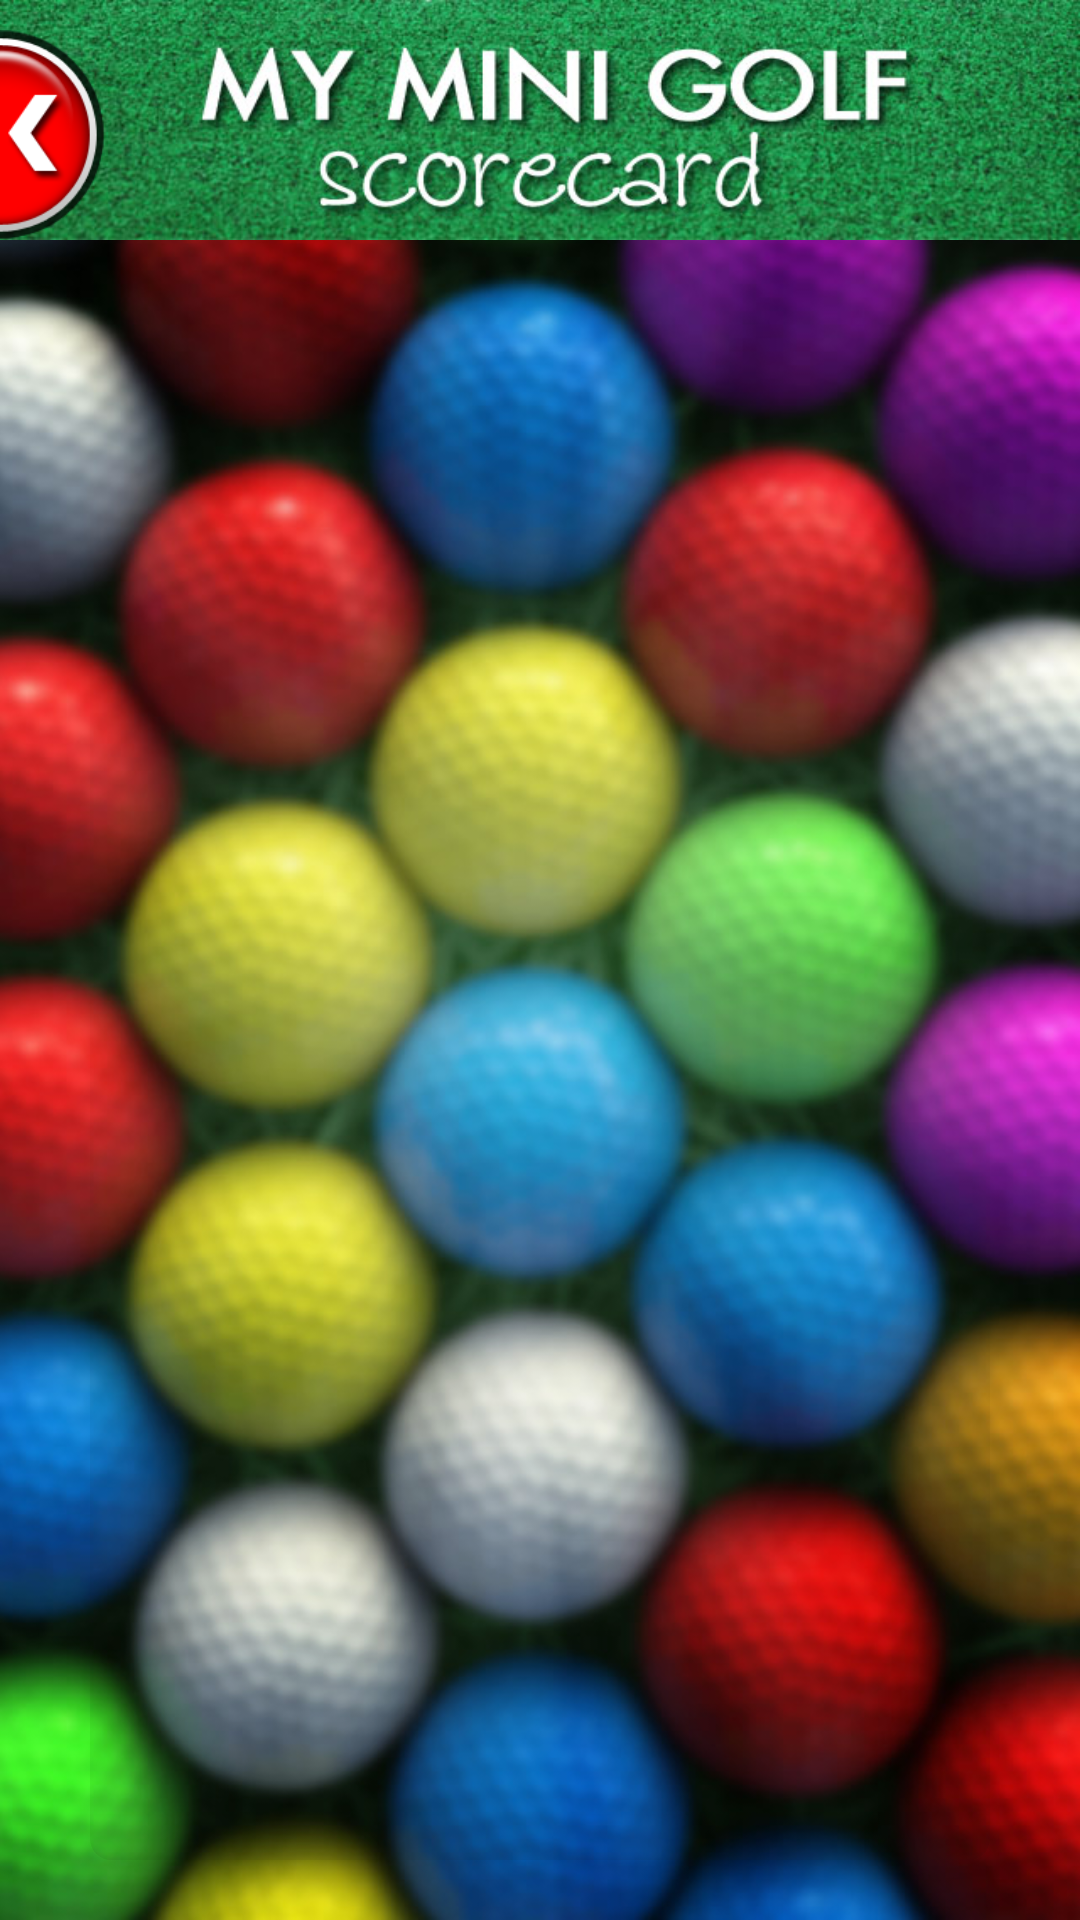

Point at icon controls on the screen. Image size 1080 × 1920, points as point (x, y).
back: point (52, 135)
